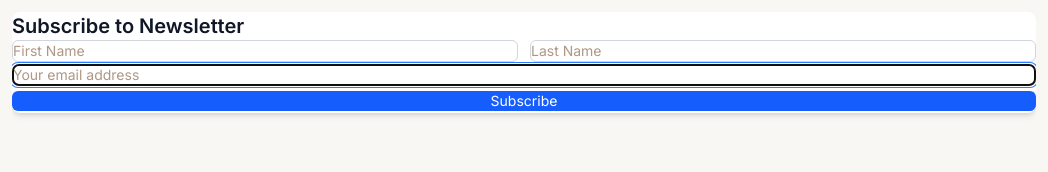
NewsletterSignup Component › shows generic error for server errors
Type "test@example.com" into the field with placeholder "Your email address" at (524, 75), box [12,64,1036,86]
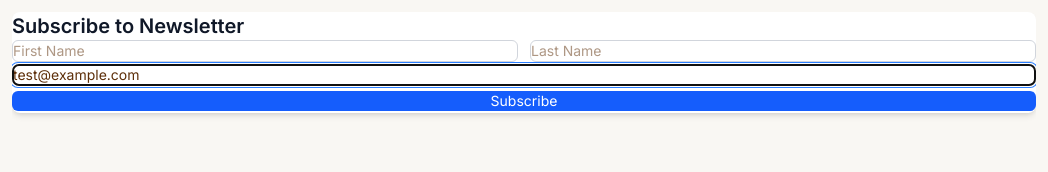
Click the button "Subscribe" at (524, 101), box [12,91,1036,111]
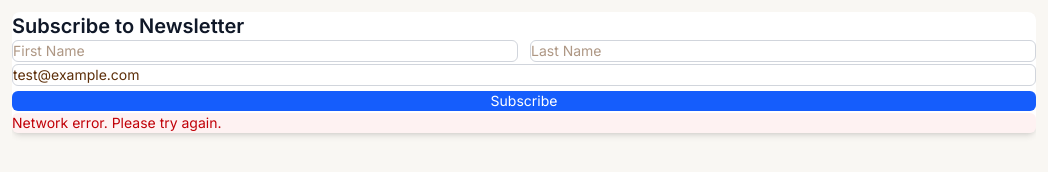
Result: the text "Network error. Please try again." is shown at [12,113,1036,133]
